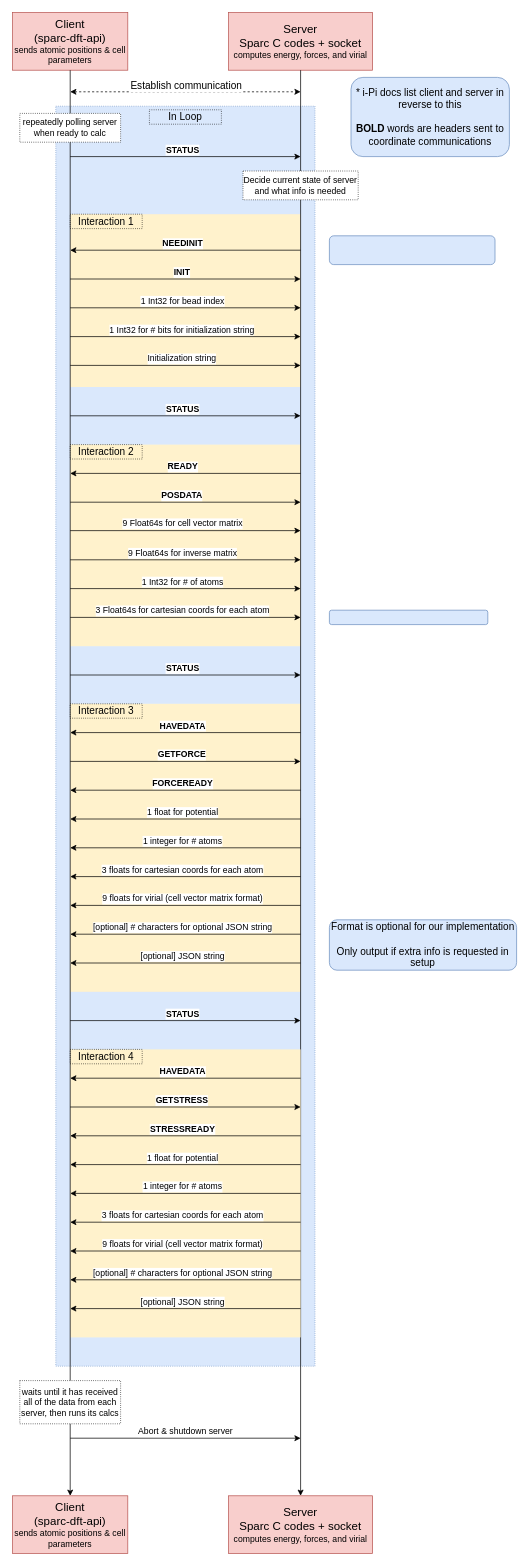
Some shapes in this 529 by 1566 pixel diagram are drawn without their labels. The shapes that lost their labels are listed below. From the top down, each one's centre as x and y in pixels, then its label:
At (x=412, y=250): "Settings Initialization, probably only called once at beginning".
At (x=408, y=617): "How to indicate types of atoms?".
